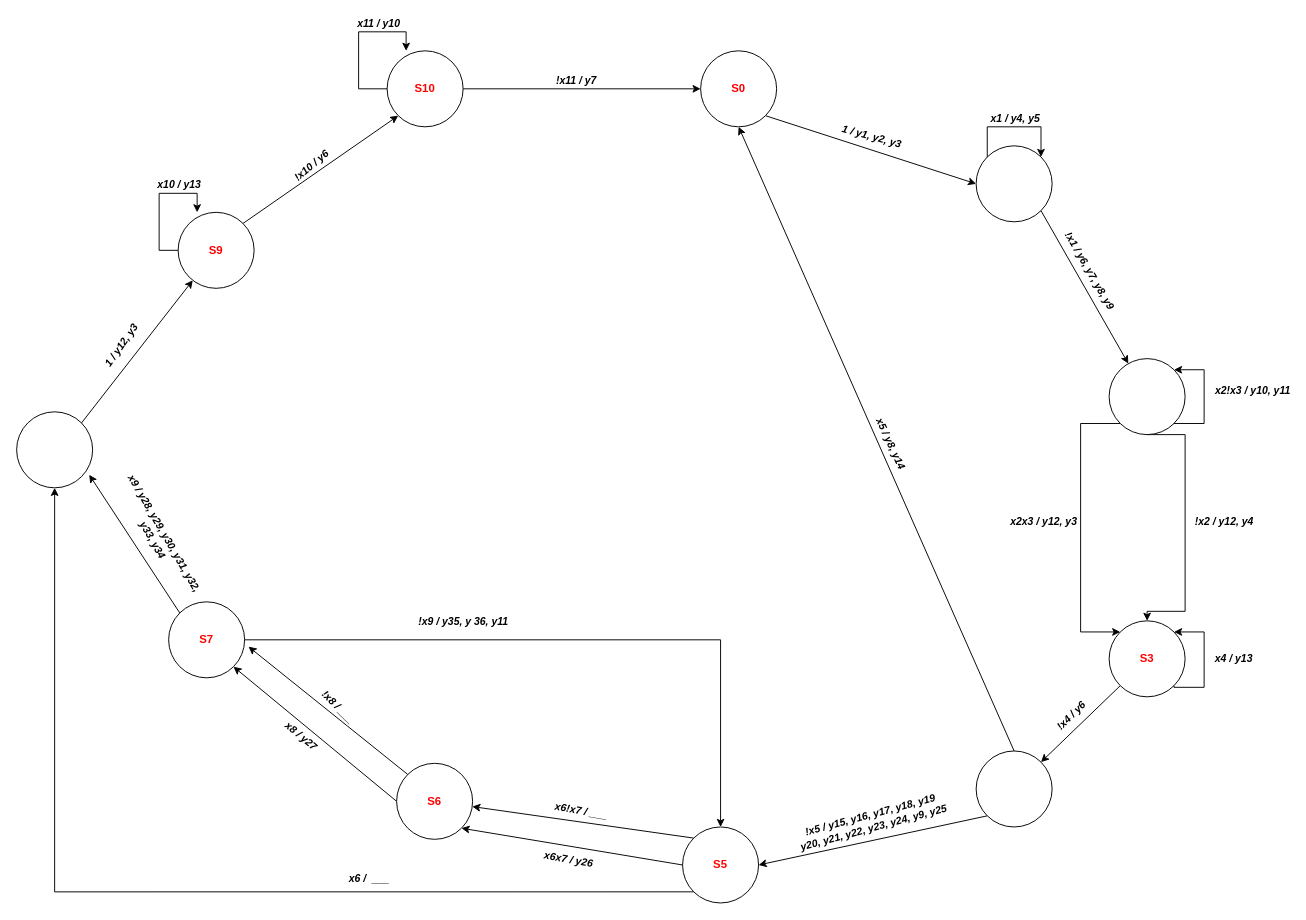
Some shapes in this 1306 by 920 pixel diagram are drawn without their labels. The shapes that lost their labels are listed below. From the top down, each one's box as (x1, y1, x2, y2) in pixels, then its label:
(975, 145, 1052, 222): S1
(1108, 358, 1185, 435): S2
(16, 411, 93, 488): S8
(975, 750, 1052, 827): S4
